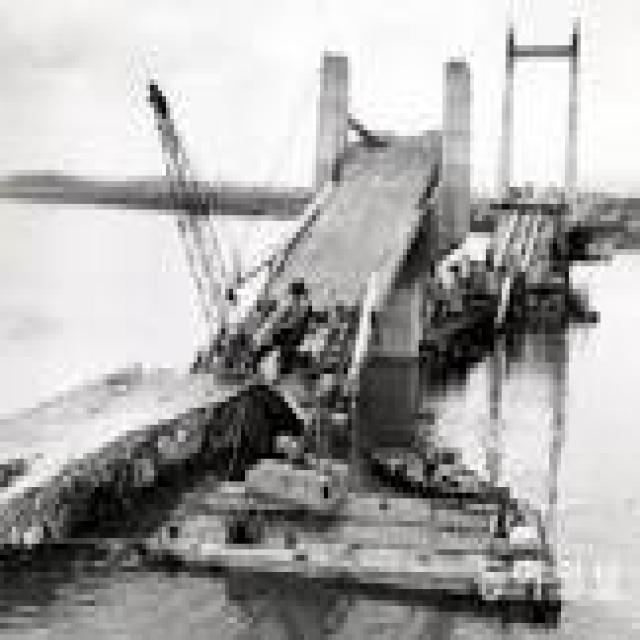bridge collapse: (2, 46, 583, 640)
